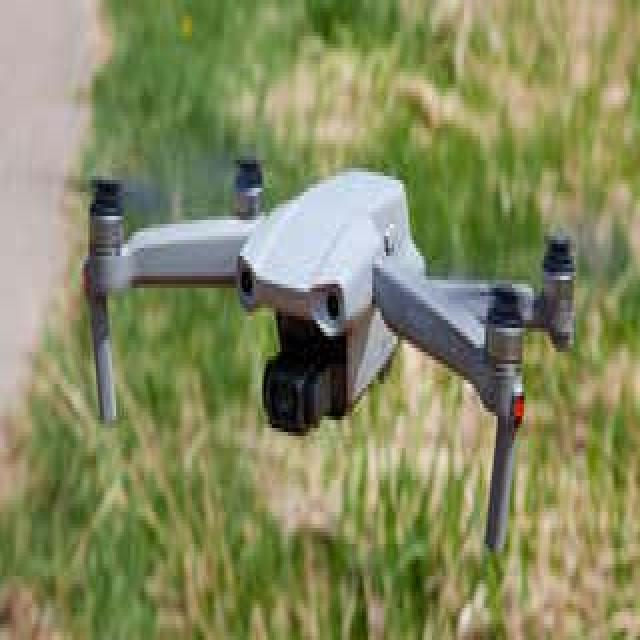drone: (74, 109, 591, 583)
